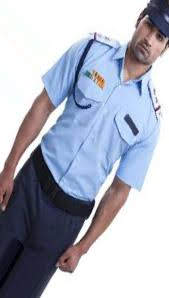uniform: (1, 17, 160, 272)
